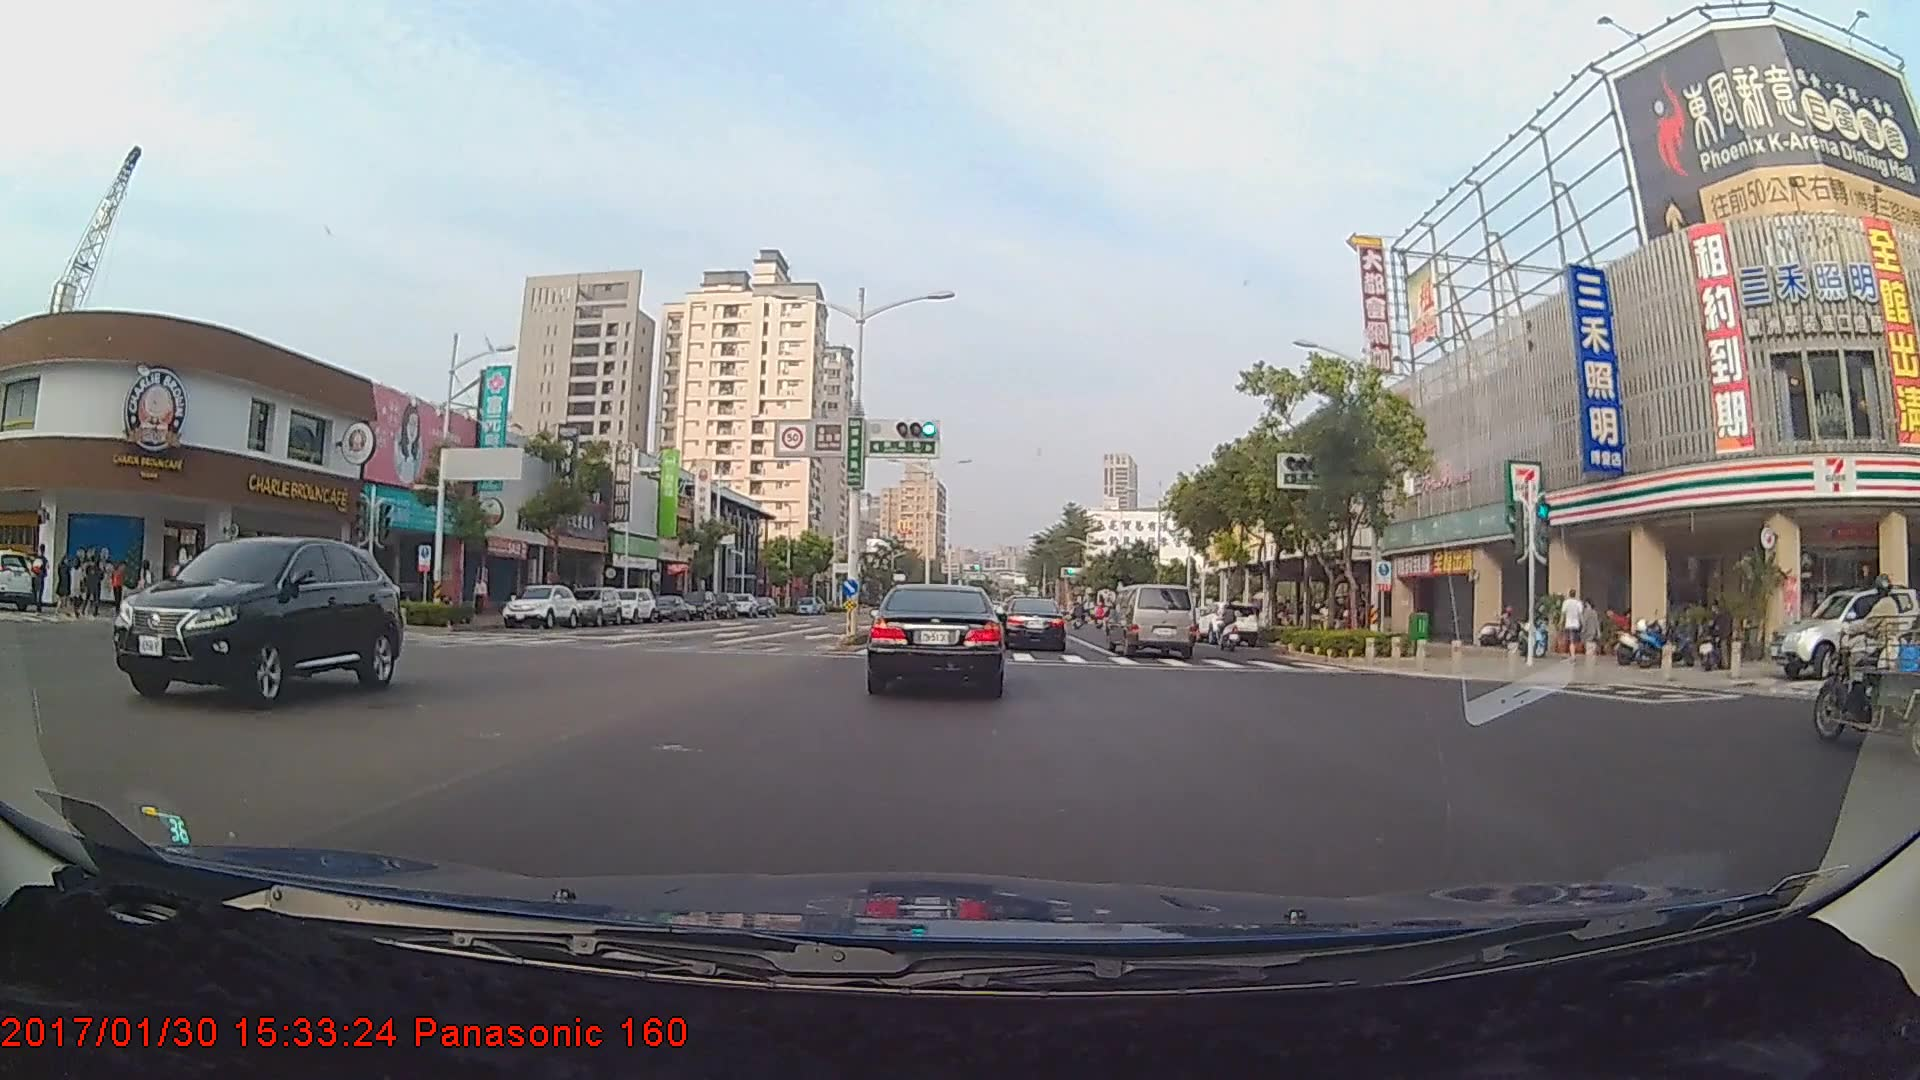pedestrian: (1559, 587, 1585, 661), (1582, 598, 1605, 670), (84, 556, 105, 619), (471, 573, 493, 618)
rider: (1211, 595, 1245, 647)
vehicle: (122, 533, 401, 704), (870, 581, 1003, 696), (1768, 584, 1918, 677), (1109, 584, 1195, 659), (499, 581, 581, 628), (1000, 599, 1068, 651), (1200, 597, 1262, 644), (566, 584, 621, 624), (606, 587, 659, 625), (652, 591, 691, 622)
